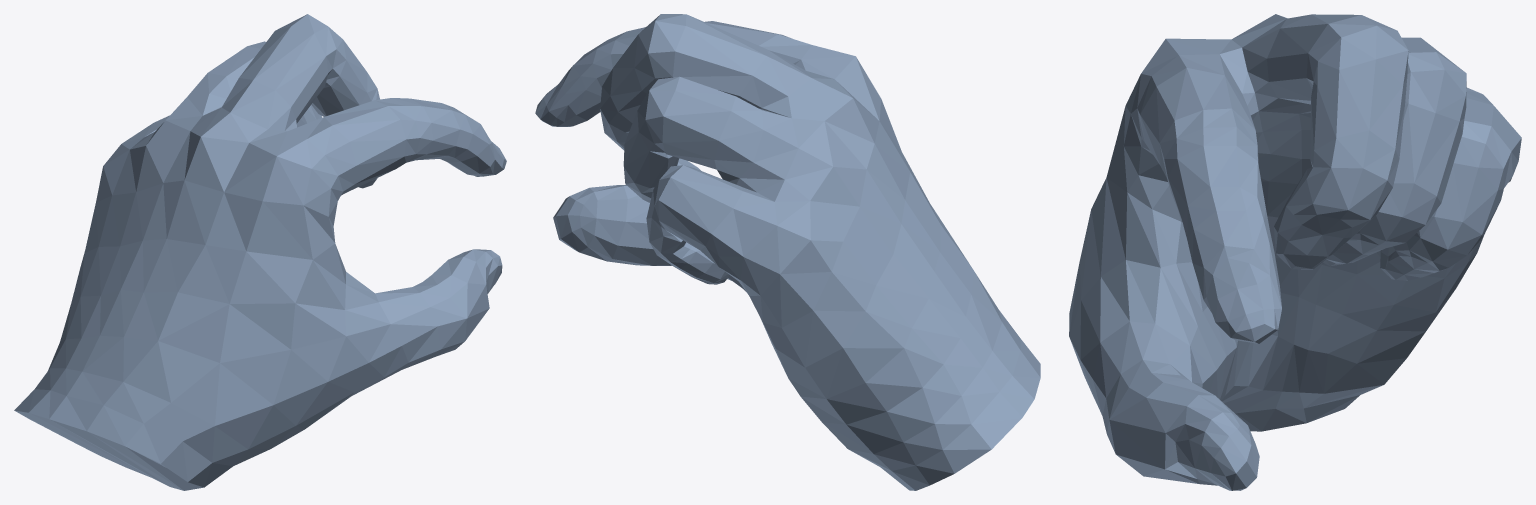
The picture shows the model from 3 angles, left to right: view 1: azimuth 30°, elevation 25°; view 2: azimuth 150°, elevation 25°; view 3: azimuth 270°, elevation 25°; orthographic projection. The views are drawn at different scales.
Size of the model in its own units: 0.1516 by 0.1227 by 0.0931.
